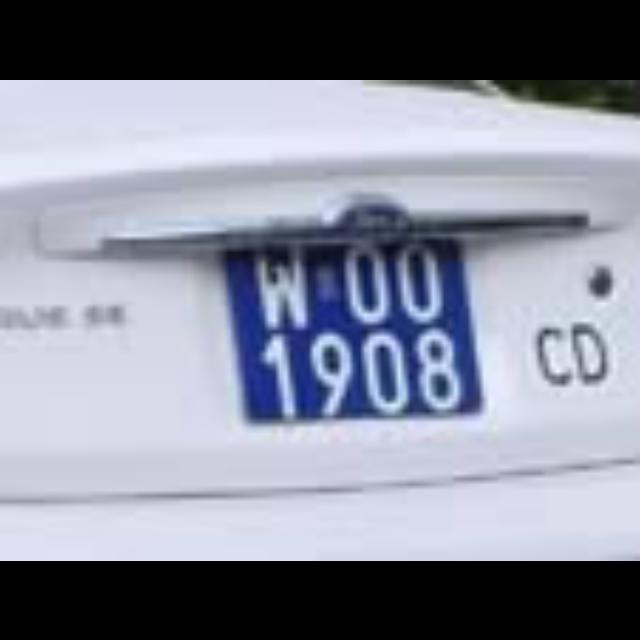pl_license_plate: (221, 232, 481, 418)
